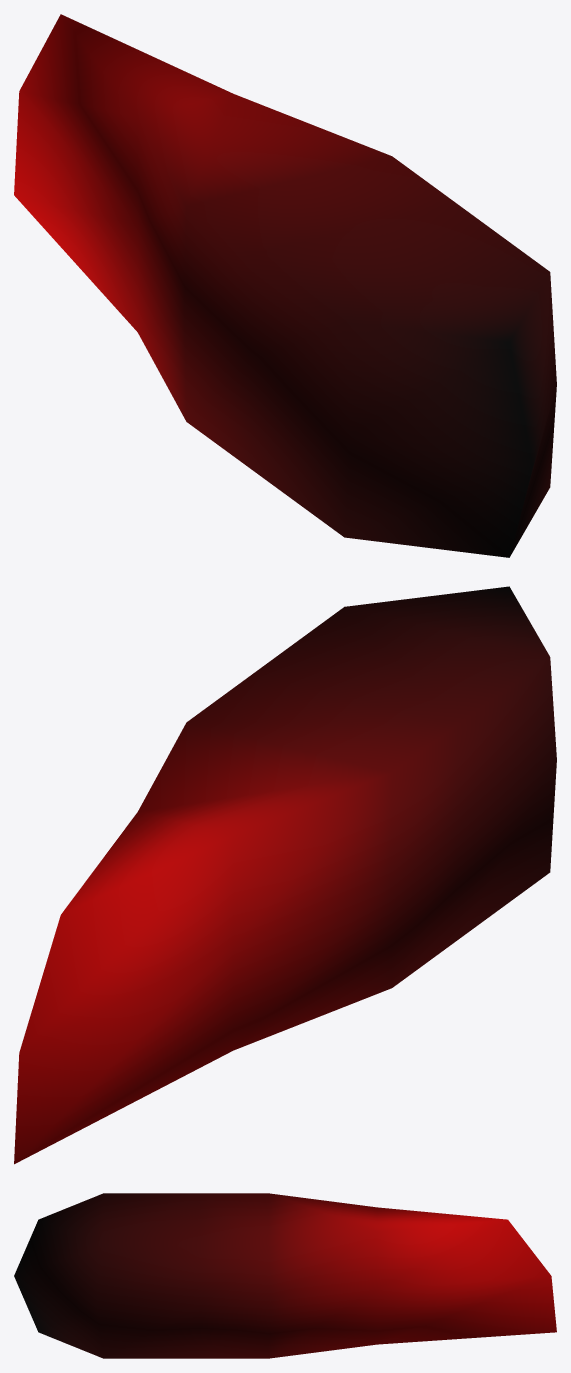
Rendered from TEMP_playerChar_01.fbx.
The picture shows the model from 3 angles, top to bottom: view 1: azimuth 30°, elevation 25°; view 2: azimuth 150°, elevation 25°; view 3: azimuth 270°, elevation 25°; orthographic projection. The views are drawn at different scales.
Parts seen in each view (by area): view 1: pCube1; view 2: pCube1; view 3: pCube1.
Part boxes in pixels (bbox=[...]): pCube1: bbox=[14, 14, 556, 557]; pCube1: bbox=[14, 586, 556, 1164]; pCube1: bbox=[14, 1193, 556, 1358].
Bounding box in the file's own units: 1 × 1 × 4.37.
